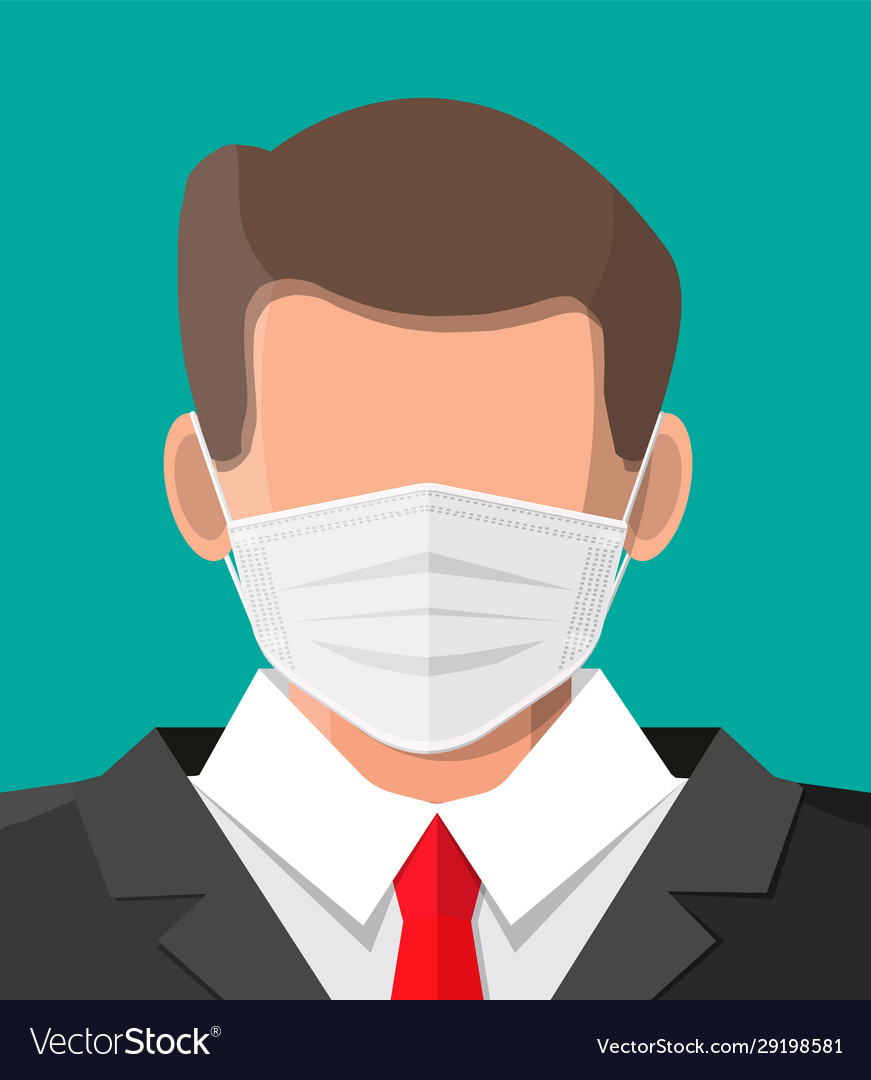mask: (187, 470, 649, 772)
